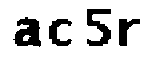5: (82, 5, 117, 51)
a: (14, 15, 42, 50)
c: (47, 17, 76, 48)
r: (119, 18, 146, 49)
